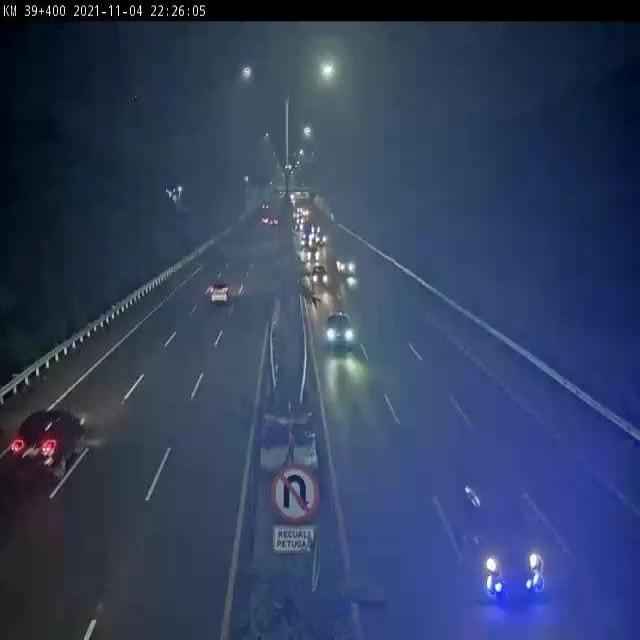car: (459, 472, 563, 601), (19, 400, 90, 492), (325, 304, 358, 363), (205, 283, 241, 316), (312, 260, 331, 287)
